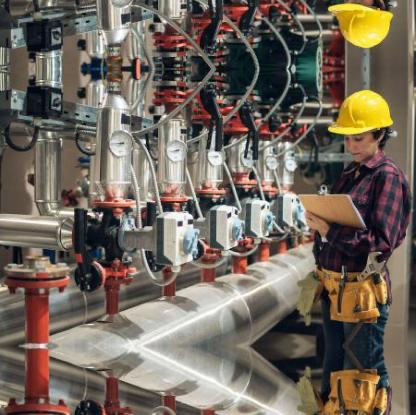Safety Helmet: (322, 86, 401, 180), (324, 1, 399, 48)
